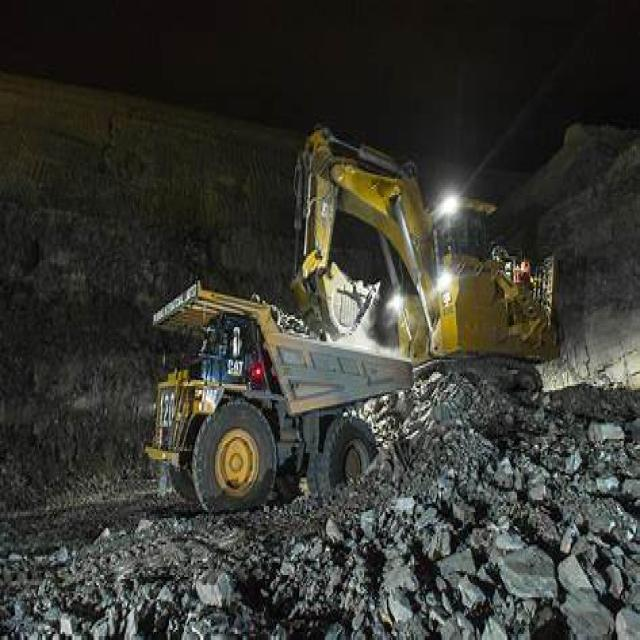dump_truck: (137, 286, 420, 538)
excavator: (280, 61, 574, 402)
